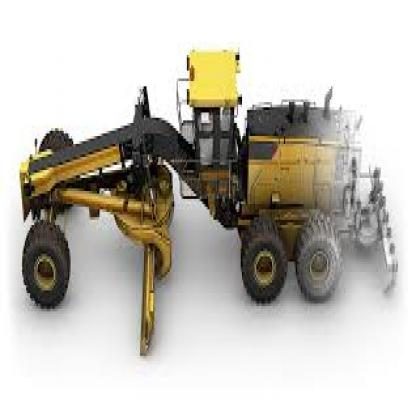bull_dozer/loader/grader: (11, 42, 400, 382)
